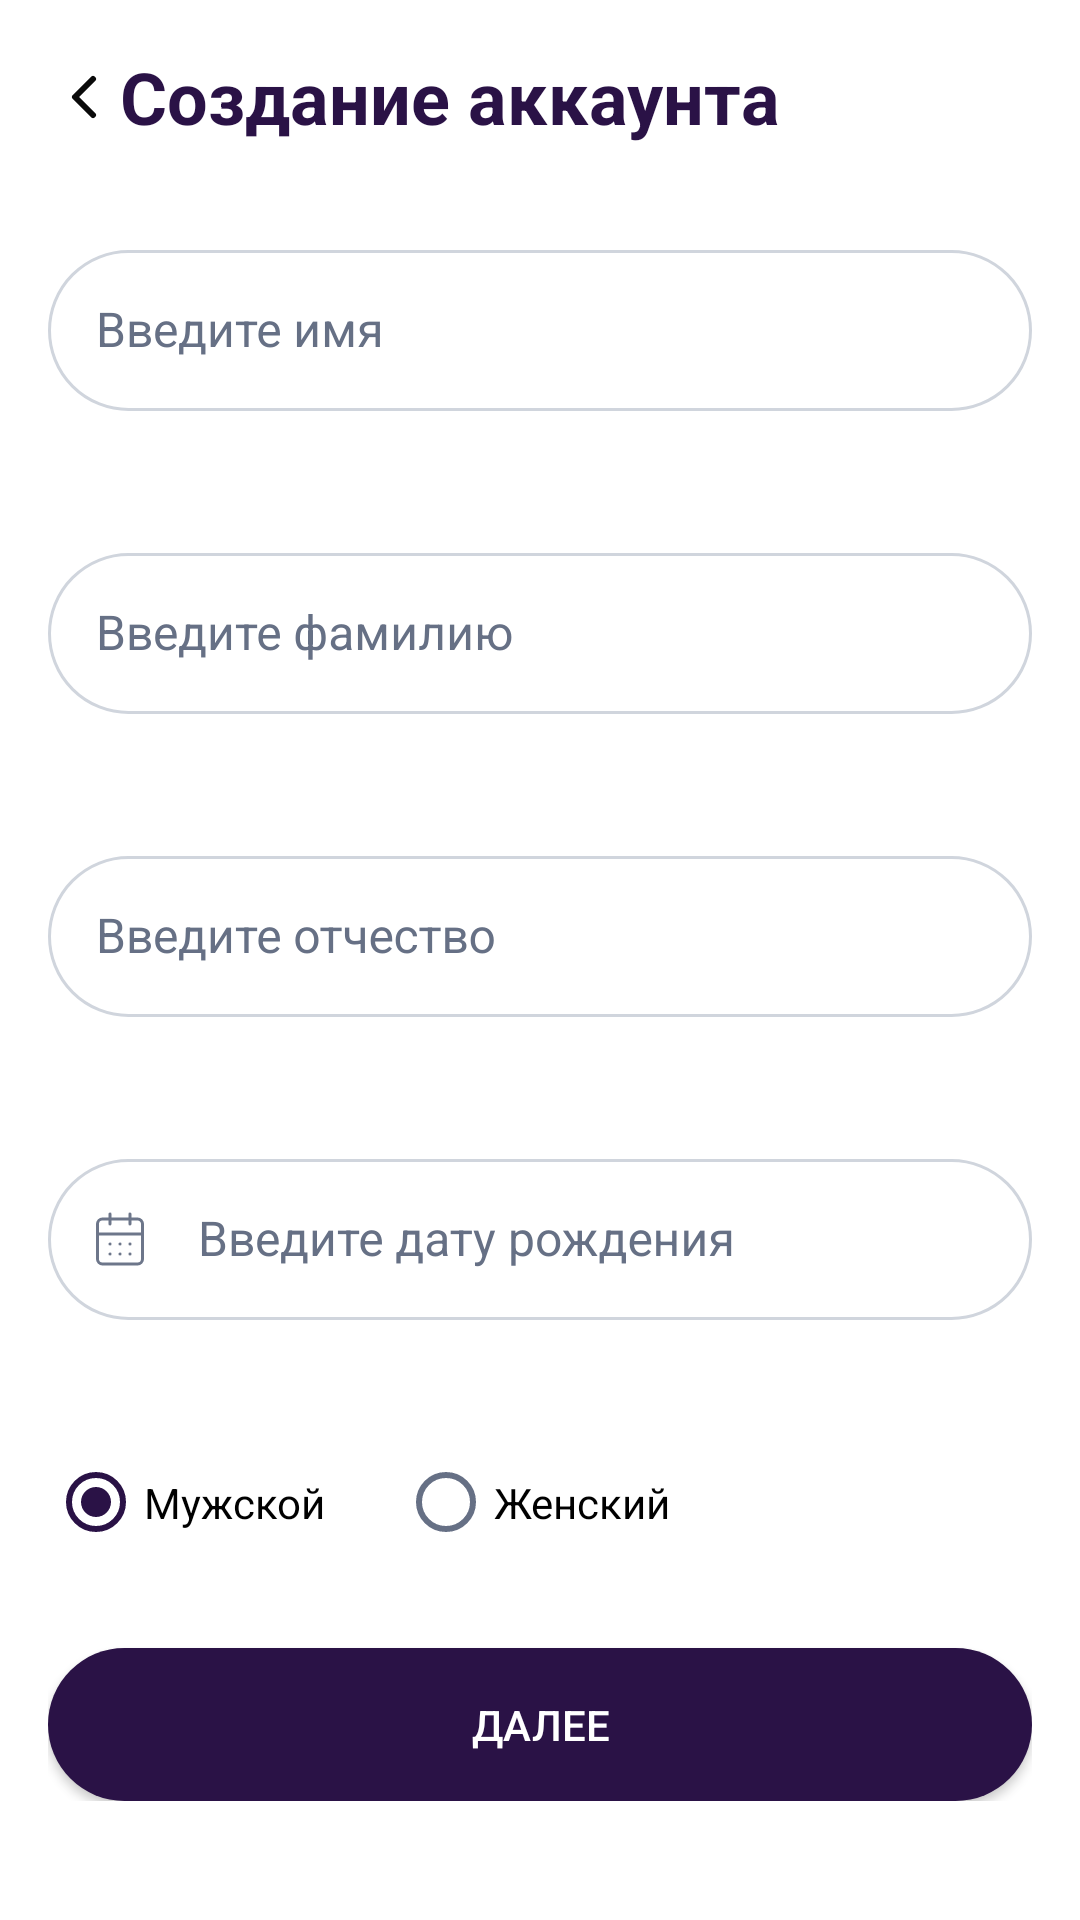

Point at icon controls on the screen. Image size 1080px x 1920px, points as [x,y].
chevron left: [84,97]
